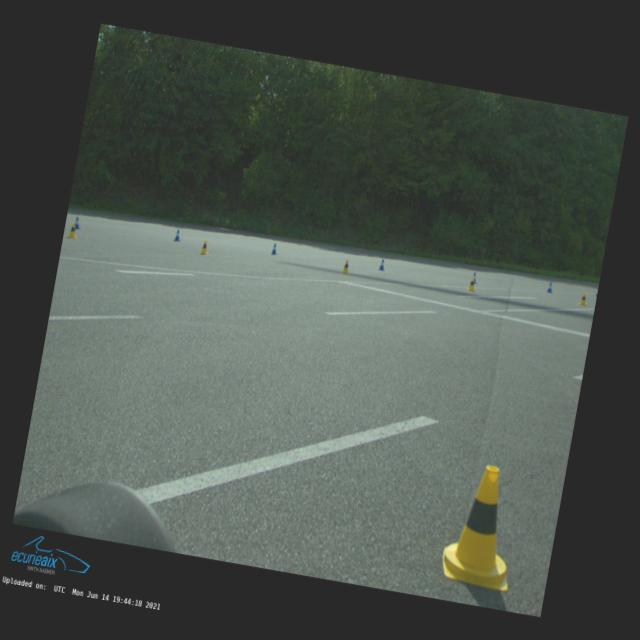blue_cone: (72, 217, 82, 230), (378, 259, 386, 271), (270, 243, 278, 255), (174, 229, 182, 241), (469, 272, 477, 283), (546, 282, 554, 292)
yellow_cone: (438, 460, 528, 592), (66, 222, 78, 238), (199, 239, 210, 255), (340, 258, 350, 274), (578, 292, 588, 306), (466, 278, 476, 292)
